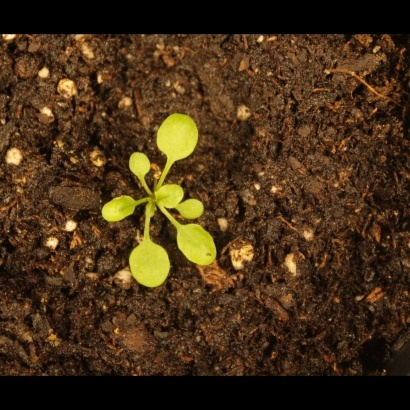leaf: (156, 105, 203, 165), (128, 231, 170, 290), (174, 221, 220, 268), (98, 194, 140, 225), (124, 148, 155, 184), (154, 183, 184, 214), (171, 196, 207, 221)
